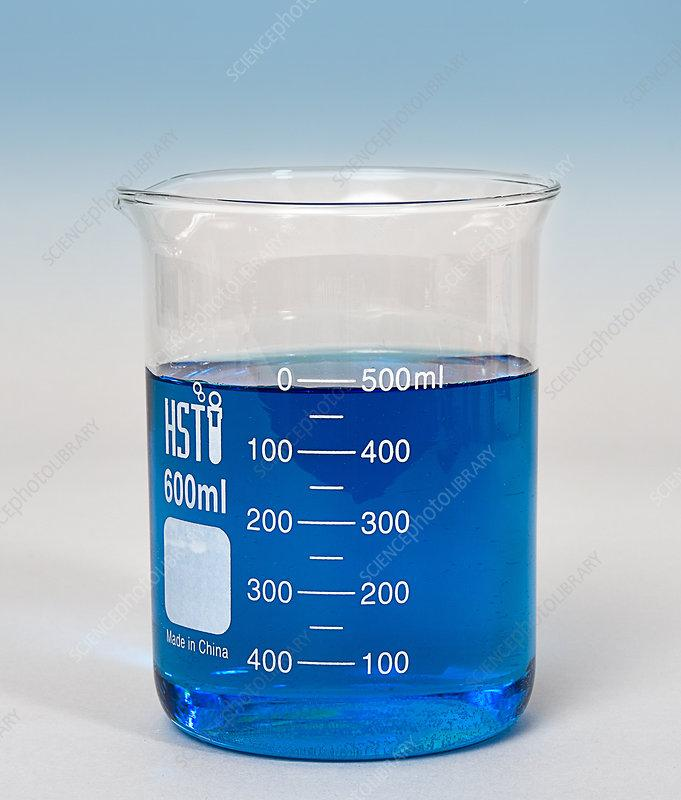Beaker: (97, 168, 567, 763)
